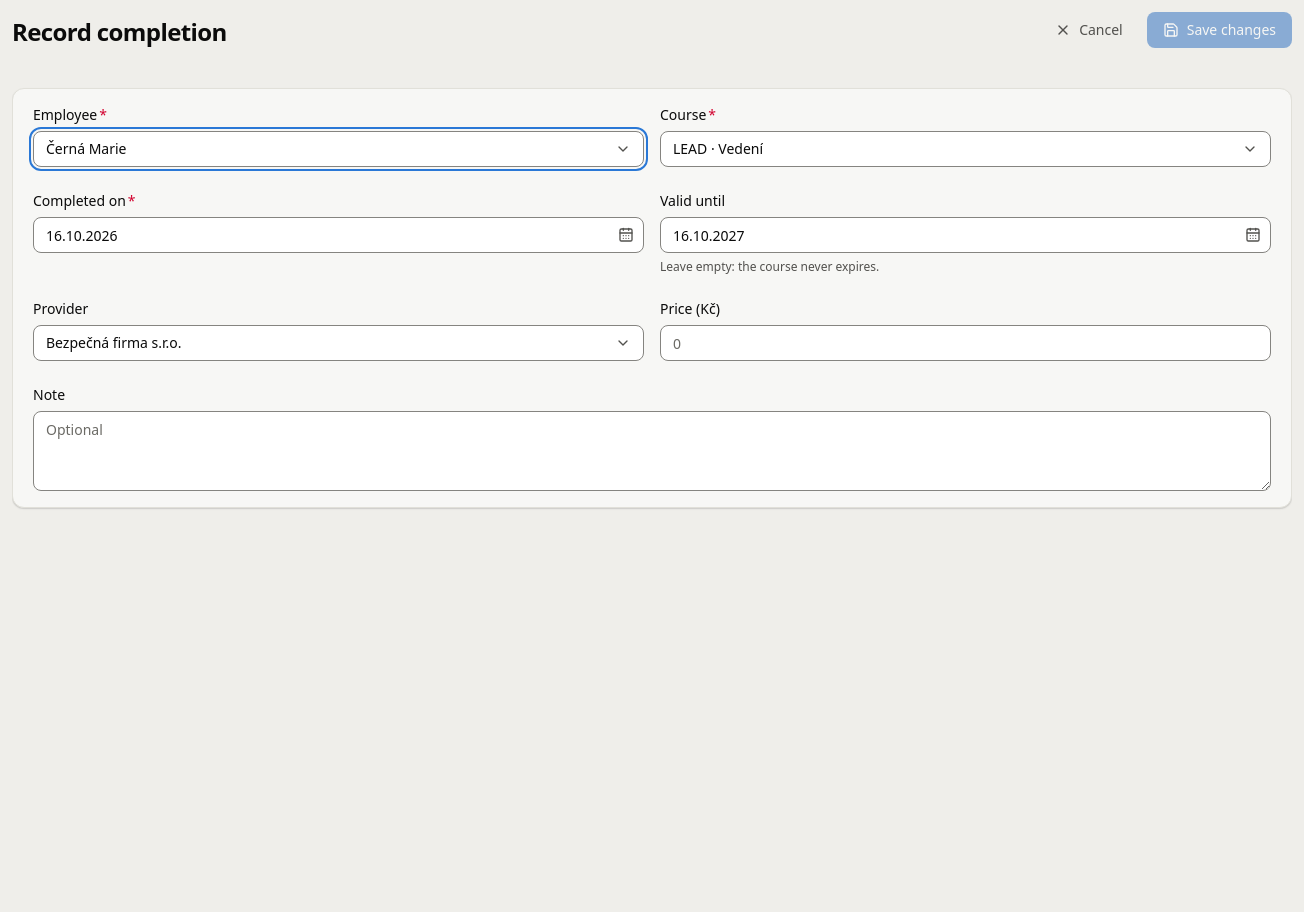
Test: the completion form names a new provider only on purpose › reveals the name field for "New provider…"
Expected: the field labelled "New provider" is not shown
Expected: the text "Leave empty: the course never expires." is shown, [660,258,879,275]
Click the dropdown named "Course": (718, 148) [660,131,1271,167]
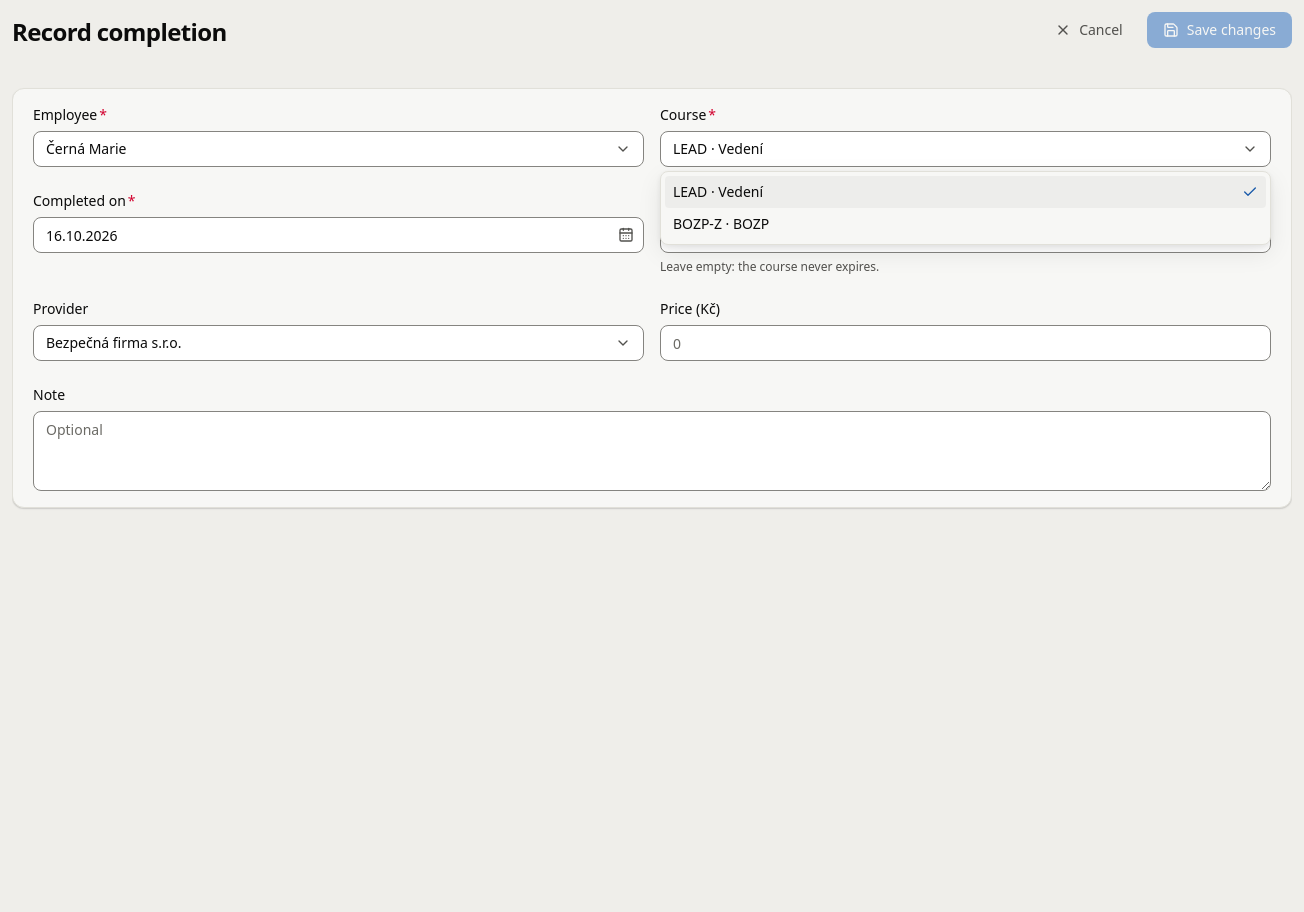
Click the option "BOZP-Z · BOZP": (721, 224) [673,214,769,233]
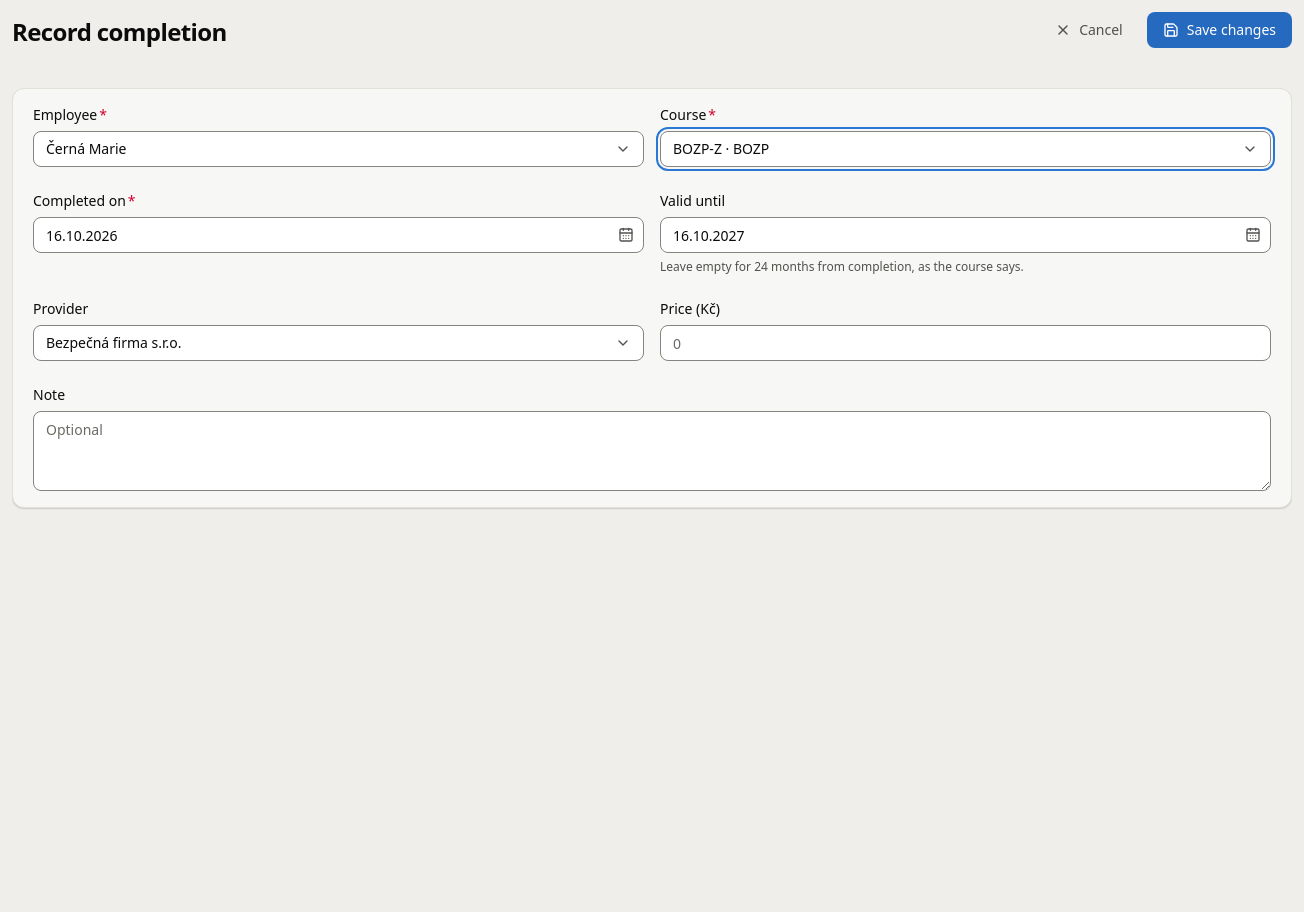
Click the dropdown named "Provider": (114, 342) [33,325,644,361]
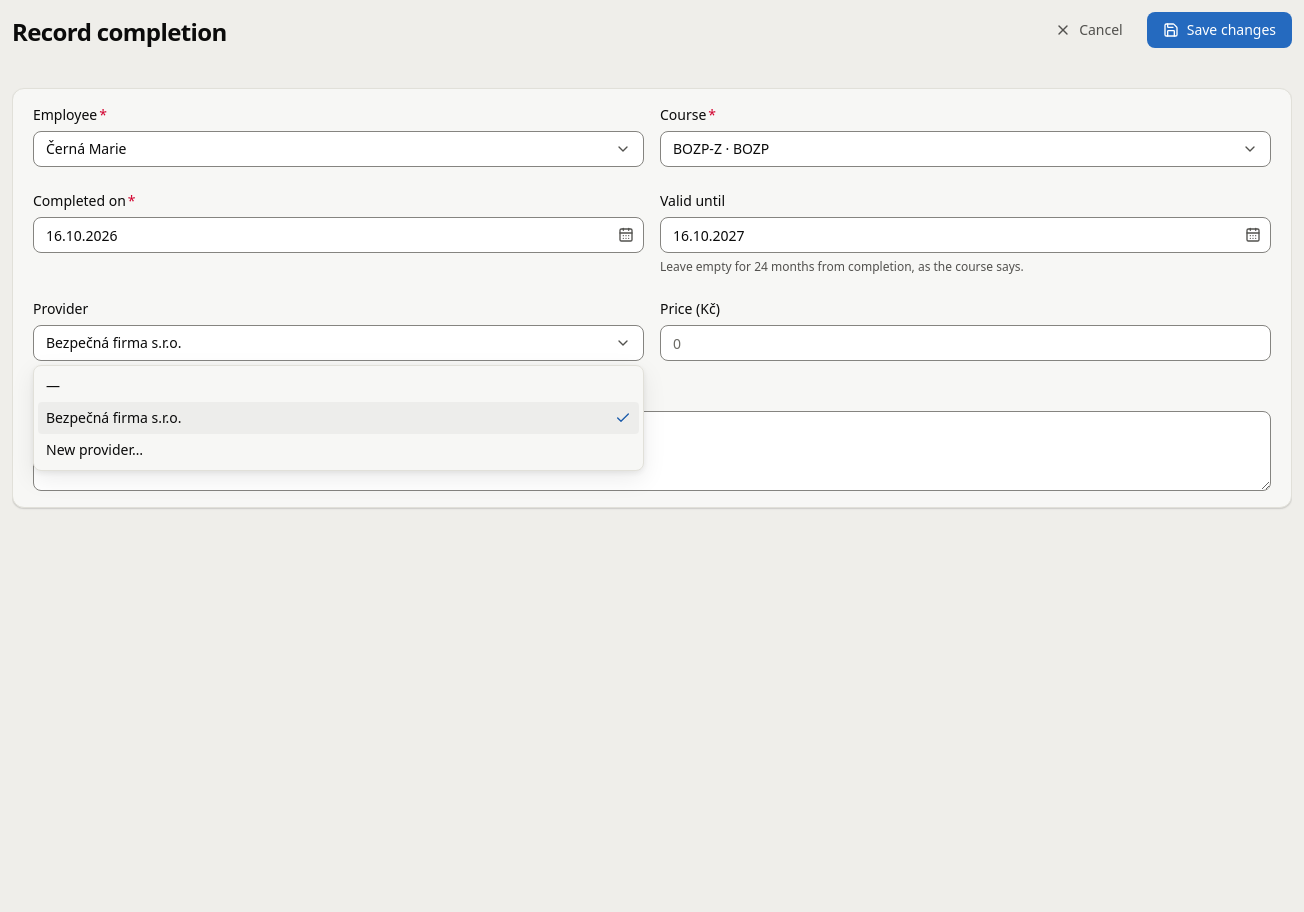
Click the option "New provider…": (95, 450) [46,440,143,459]
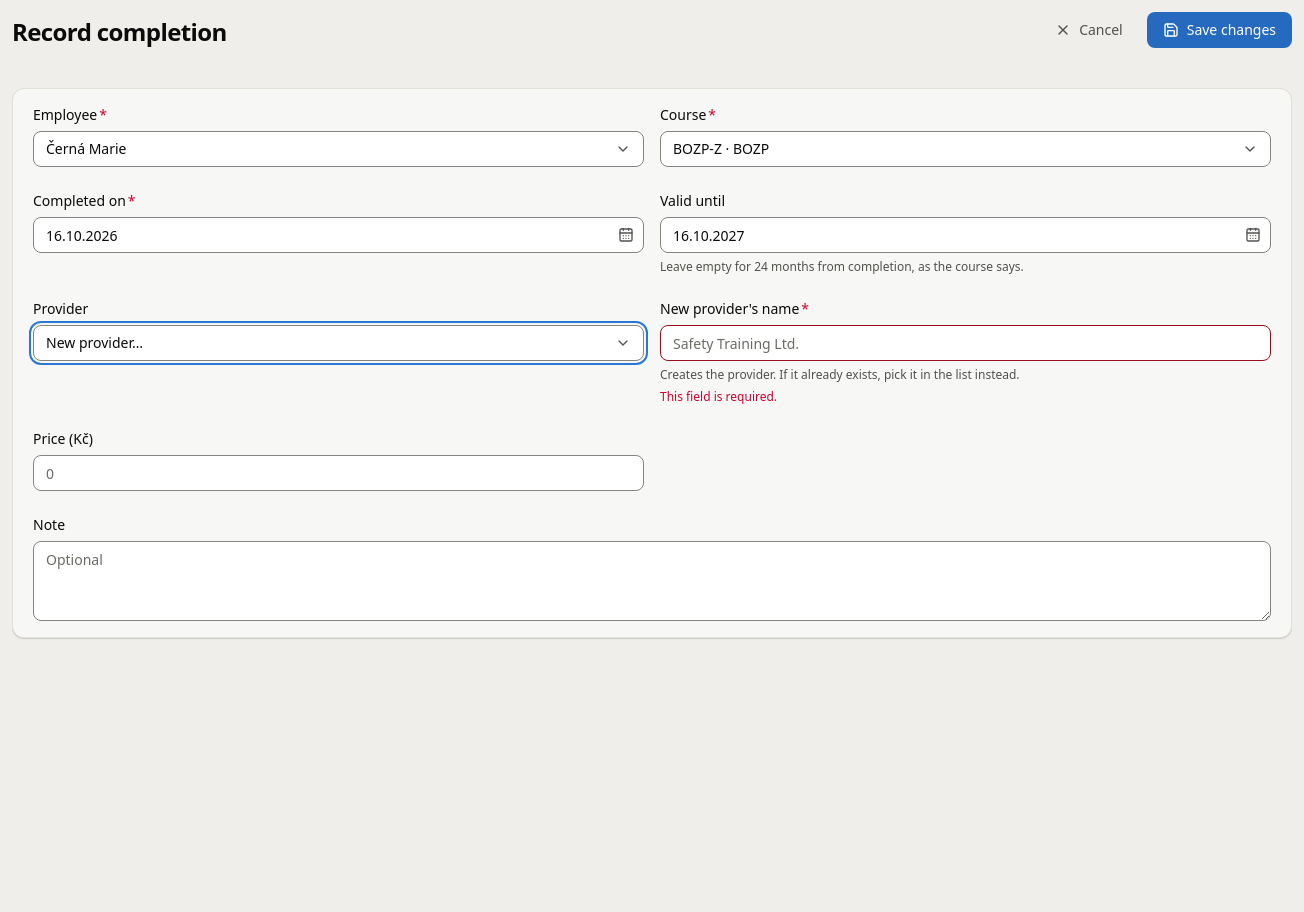
Expected: the field labelled "New provider's name" is shown, [660,325,1271,361]
Expected: the element named "providerId" holds "new", [33,299,644,361]
Click the dropdown labelled "New provider…": (95, 342) [33,325,644,361]
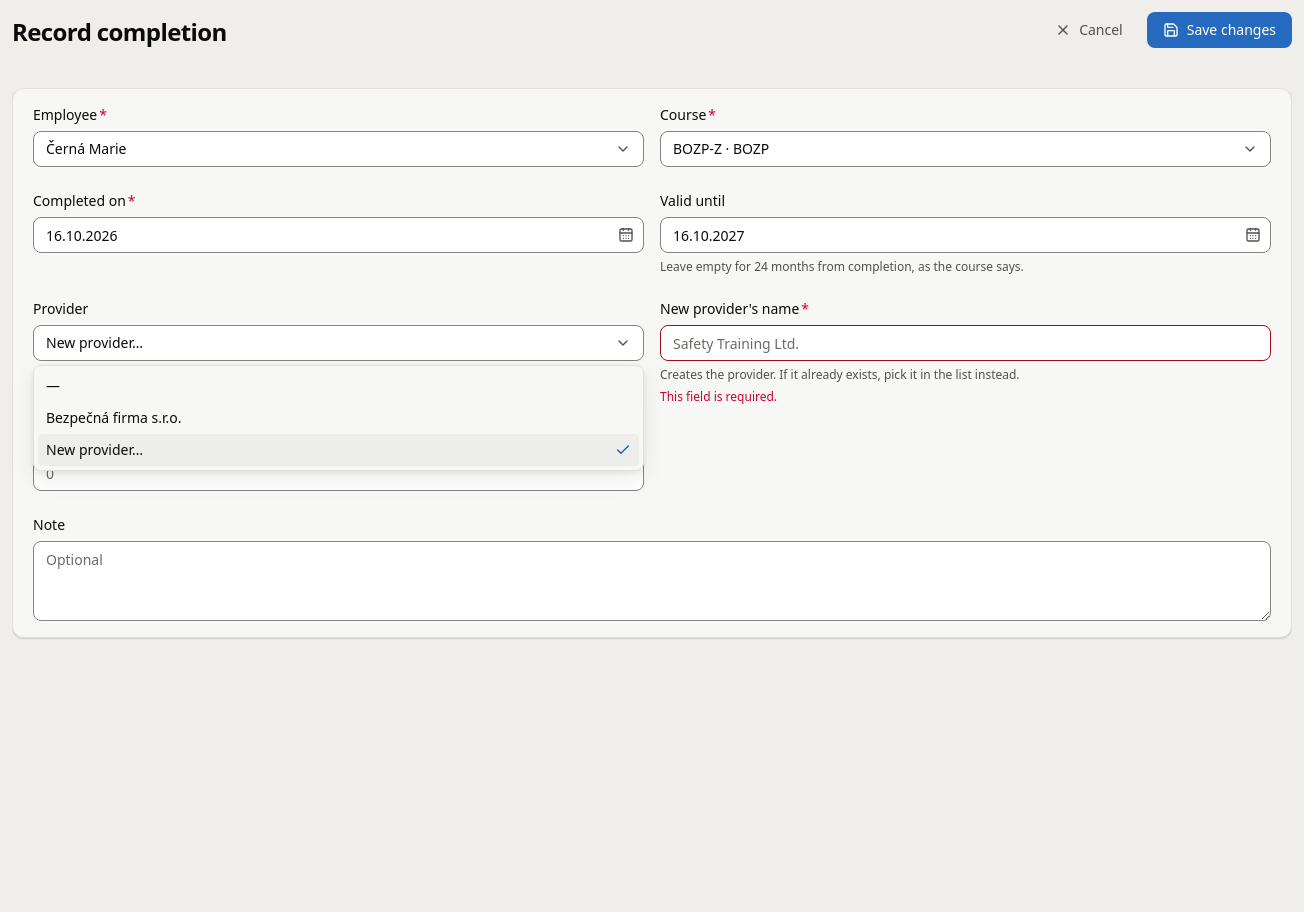
Click the option "Bezpečná firma s.r.o.": (114, 418) [46,408,182,427]
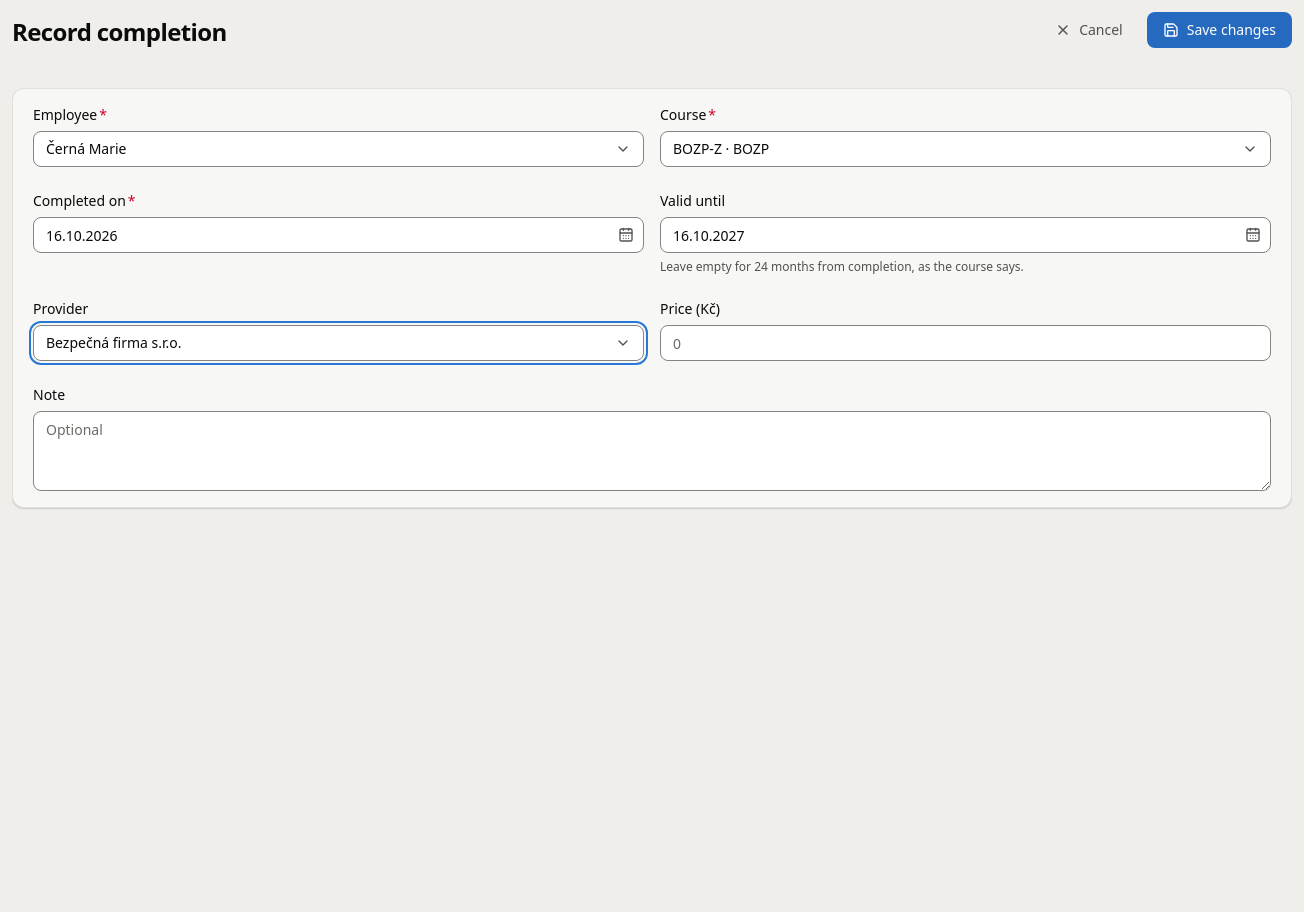
Now the dropdown labelled "New provider" is gone
